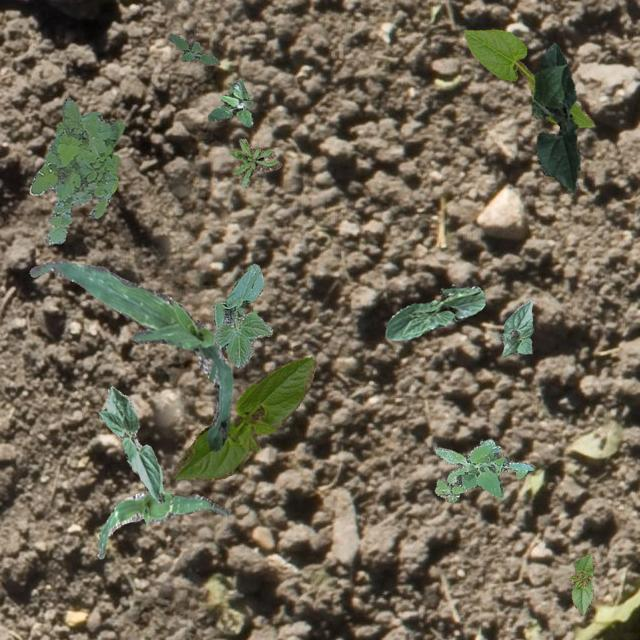crop: (28, 258, 234, 450), (170, 356, 316, 481), (462, 28, 592, 126), (96, 490, 228, 558), (98, 384, 164, 502), (530, 42, 580, 192), (212, 262, 272, 366), (384, 284, 484, 340), (500, 298, 532, 357), (568, 552, 594, 614)
weed: (28, 96, 124, 244), (433, 438, 532, 502), (230, 138, 280, 186), (206, 78, 252, 126), (168, 32, 218, 64)
